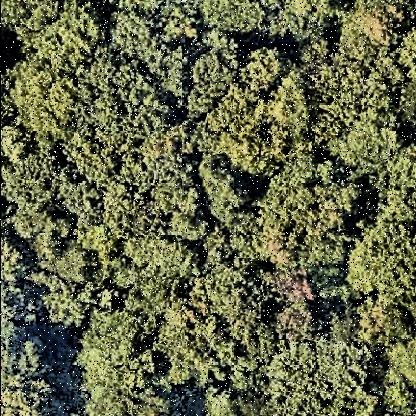tree-top: (257, 155, 362, 287), (92, 17, 185, 156), (212, 69, 317, 187), (260, 323, 385, 416), (75, 305, 178, 416), (2, 48, 90, 164), (330, 1, 414, 120), (100, 145, 194, 243), (182, 280, 264, 390), (30, 226, 110, 331), (342, 213, 416, 317), (1, 156, 98, 232), (114, 237, 196, 316), (13, 1, 112, 63), (322, 118, 399, 180), (1, 332, 57, 416), (268, 1, 334, 72), (196, 151, 249, 220), (2, 239, 40, 329), (200, 1, 274, 45)
